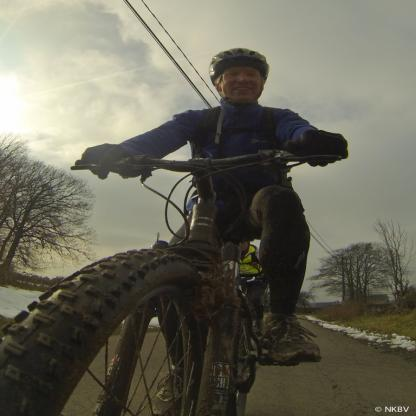Helmet: (208, 42, 272, 98)
